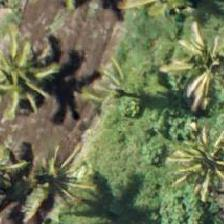coconut_tree: (12, 131, 102, 221), (153, 22, 223, 112), (0, 26, 62, 116), (171, 120, 223, 210)
